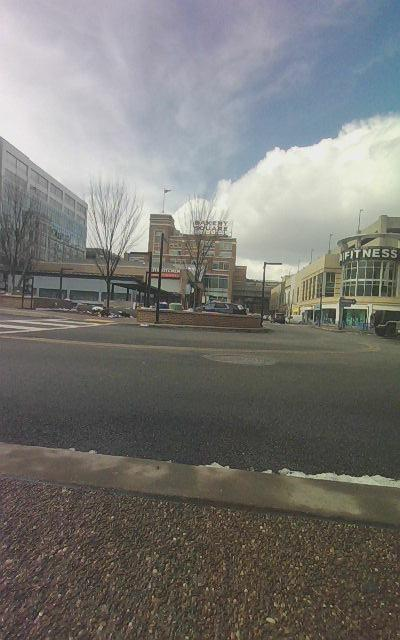curb: (0, 443, 399, 639)
road: (1, 312, 399, 487)
